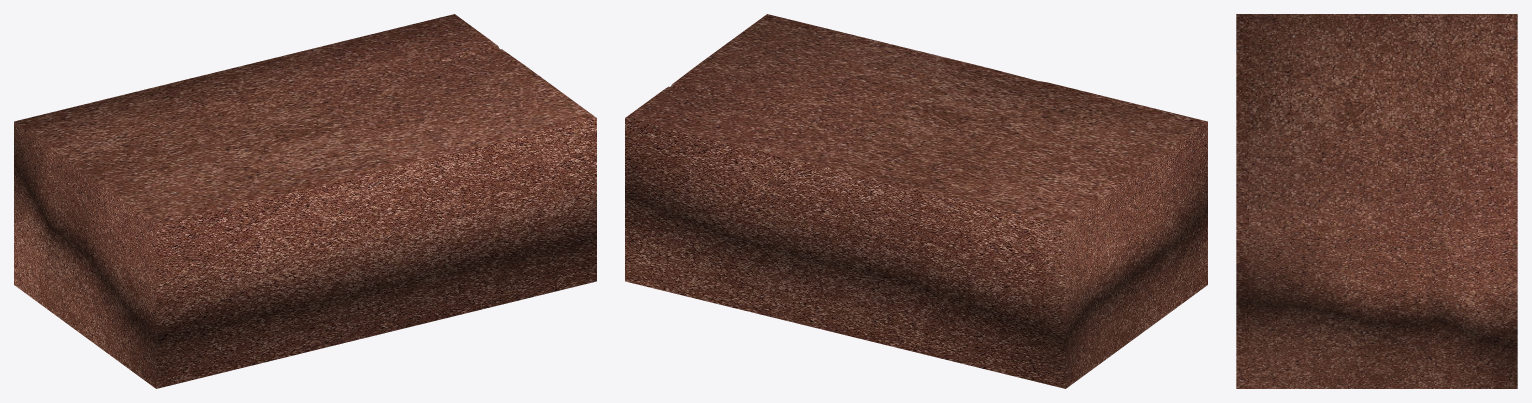
The model's file is ThrowingBrick.fbx.
3 views of the same model, side by side, from view 1: azimuth 30°, elevation 25°; view 2: azimuth 150°, elevation 25°; view 3: azimuth 270°, elevation 25° (orthographic).
Visible parts, largest first — view 1: Cube; view 2: Cube; view 3: Cube.
Part boxes in pixels (bbox=[...]): Cube: bbox=[14, 14, 596, 388]; Cube: bbox=[625, 14, 1207, 388]; Cube: bbox=[1236, 14, 1517, 388].
Bounding box in the file's own units: 200 × 70.89 × 112.
